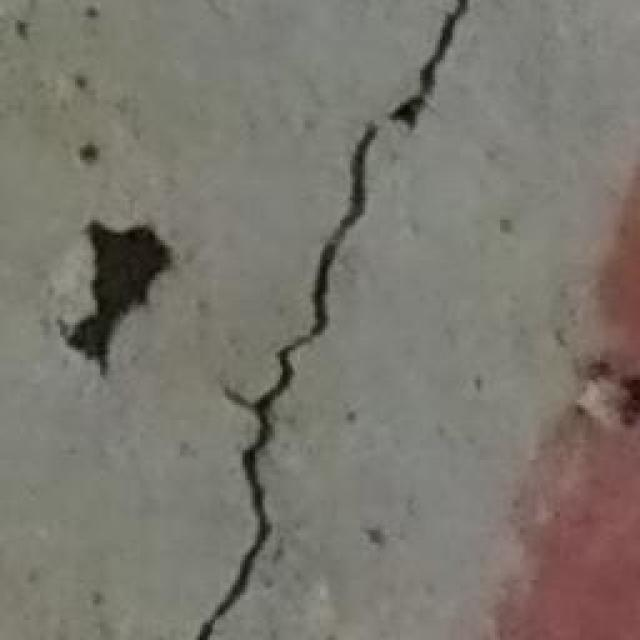Annular: (60, 209, 172, 378)
Radial: (200, 0, 462, 640)
